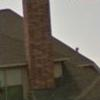Chimney: (18, 2, 60, 87)
